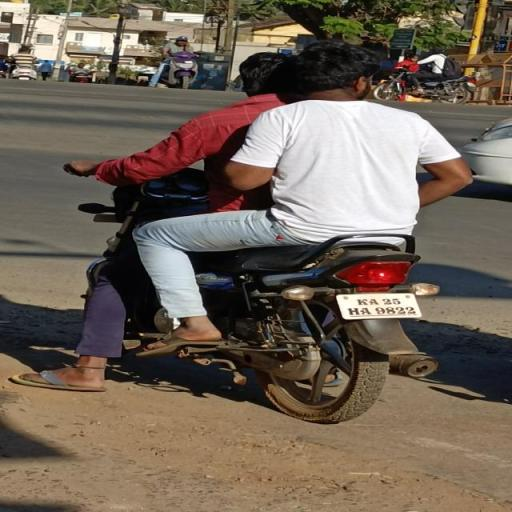bike: (37, 37, 477, 426)
numberplate: (342, 289, 416, 323)
withouthelmet: (290, 46, 376, 97), (242, 55, 288, 95)
